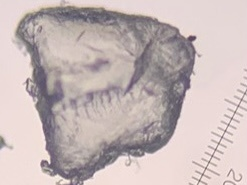microplastic: (12, 3, 203, 185)
